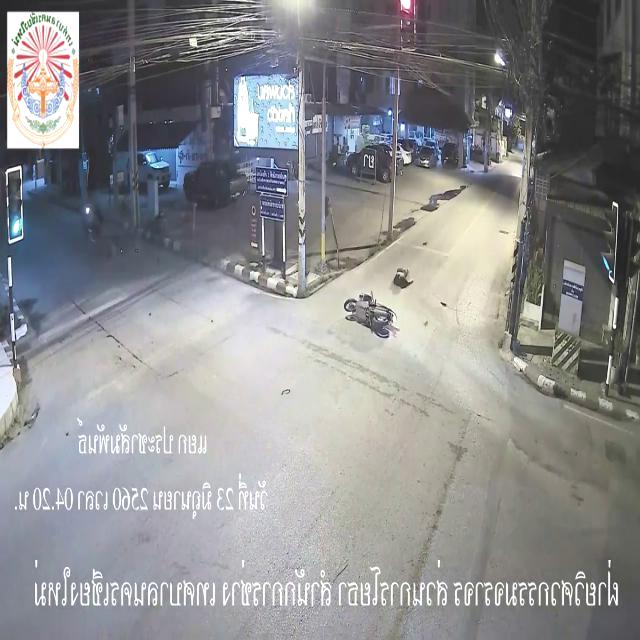accident: (342, 267, 413, 337)
